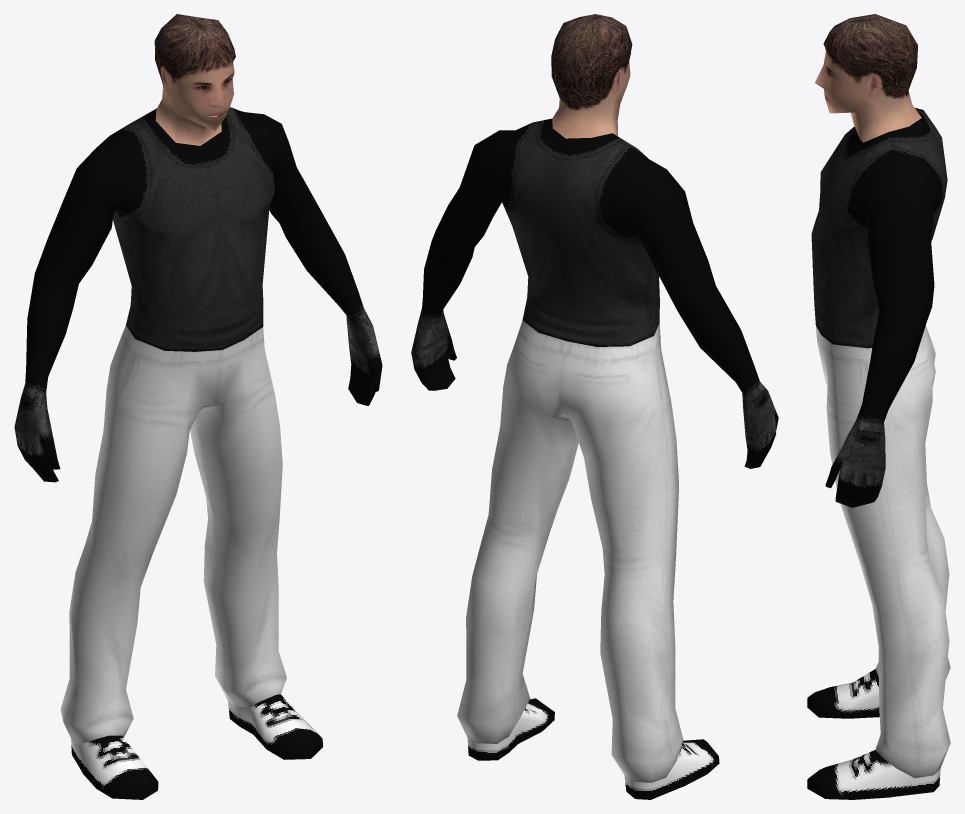
The model's file is Beat 'Em Up Heroes.glb.
The picture shows the model from 3 angles, left to right: view 1: azimuth 30°, elevation 25°; view 2: azimuth 150°, elevation 25°; view 3: azimuth 270°, elevation 25°; orthographic projection.
Visible parts, largest first — view 1: hero4; view 2: hero4; view 3: hero4.
Part boxes in pixels (box(x1,y1,x2,y2)): hero4: box(14, 14, 382, 799); hero4: box(411, 14, 778, 799); hero4: box(807, 14, 950, 799).
Bounding box in the file's own units: 0.8986 × 1.82 × 0.3252.
6 materials, 6 textured.
